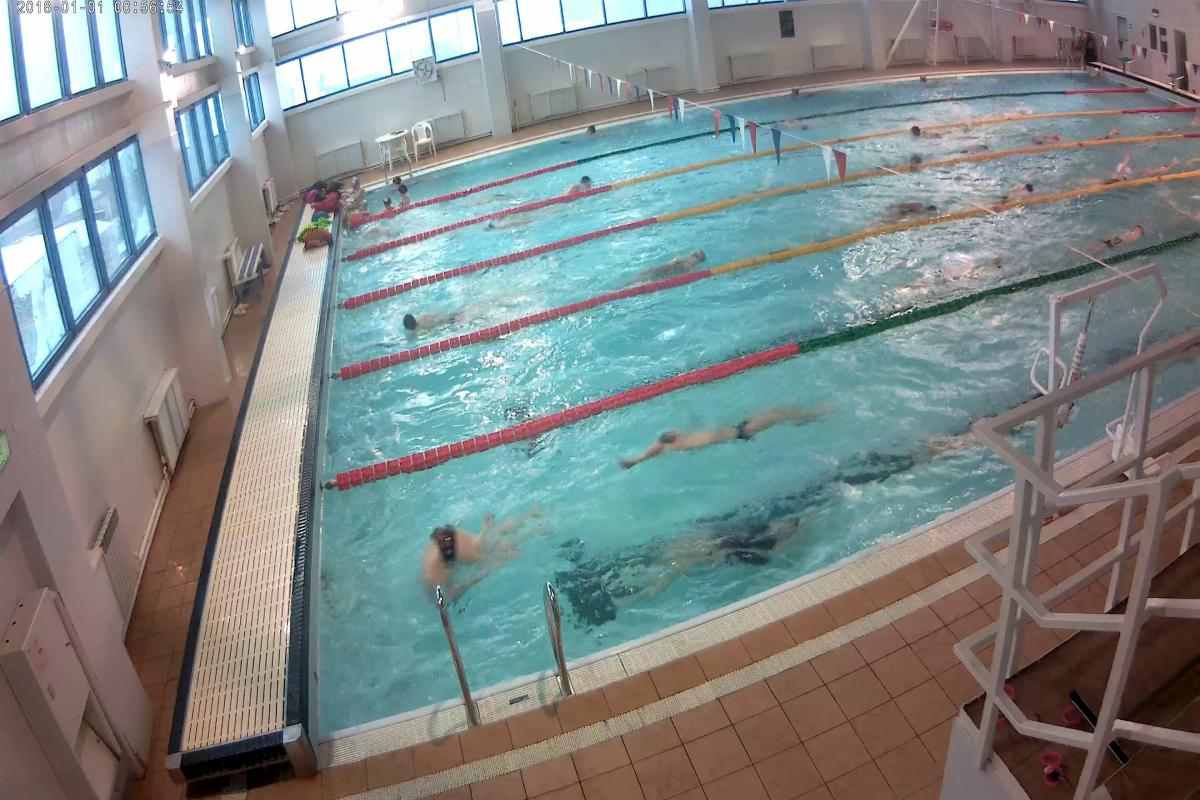swimmer: (619, 394, 819, 470), (410, 504, 538, 601), (650, 512, 810, 580), (912, 400, 1054, 453), (395, 298, 490, 336), (1075, 216, 1155, 256), (627, 244, 709, 281), (870, 195, 938, 226), (997, 182, 1041, 204), (551, 173, 597, 192)
